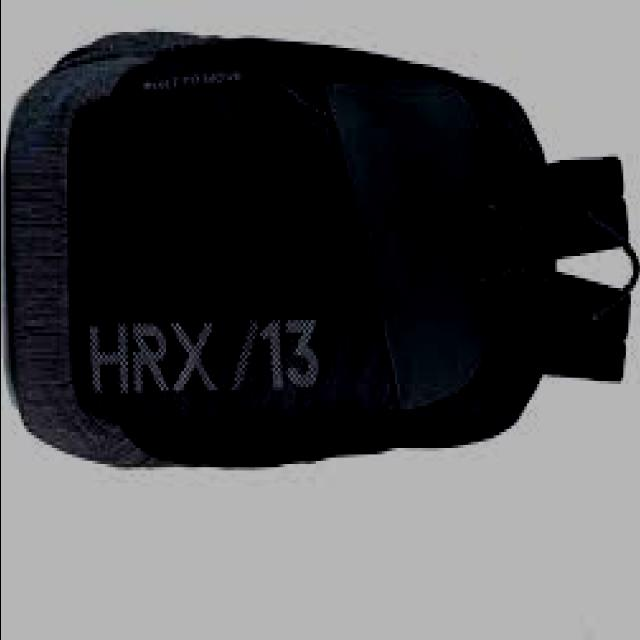backpack: (6, 30, 640, 472)
